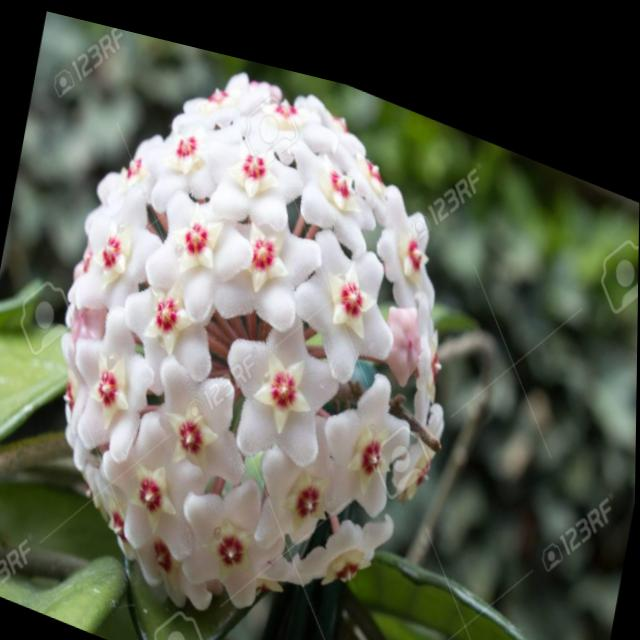Flower: (33, 8, 491, 640)
